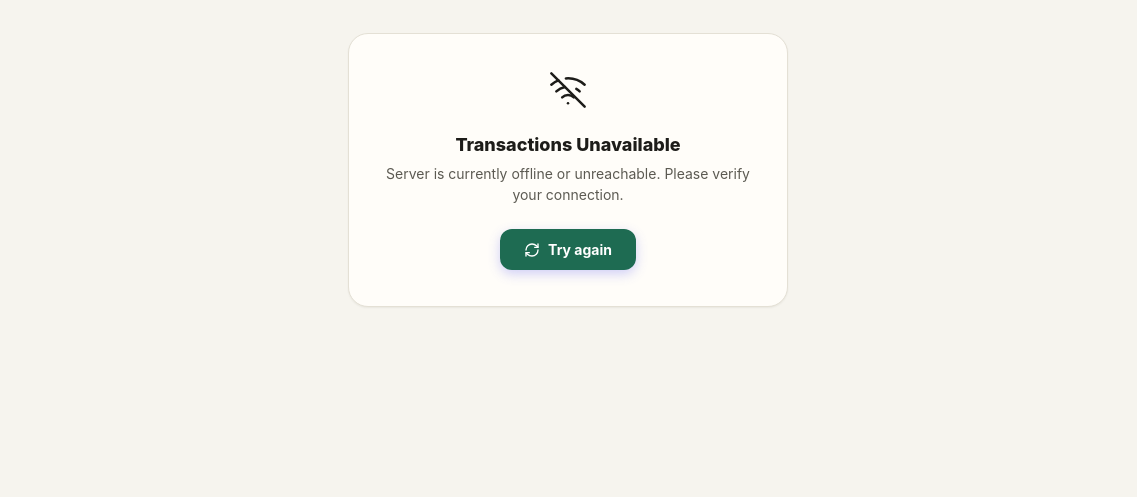
Expenses › shows a friendly offline message and recovers on retry
Expected: the text "offline or unreachable" is shown, [386, 165, 750, 203]
Click the button "Try again" at [568, 250], box [500, 229, 636, 270]
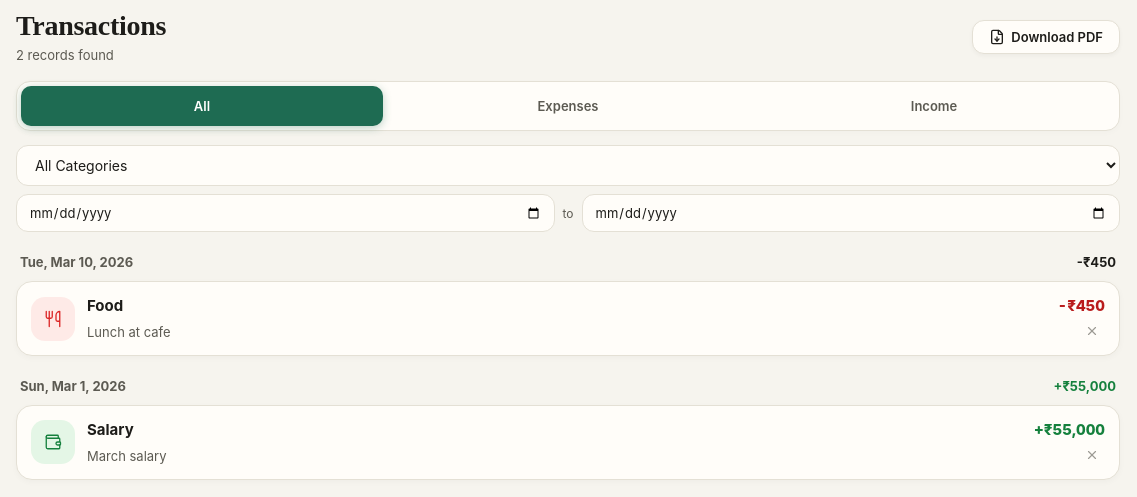
Now the text "Lunch at cafe" is shown, box [87, 324, 171, 340]
